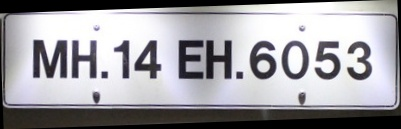character: (31, 37, 67, 80), (70, 36, 98, 80), (205, 38, 233, 80), (133, 39, 162, 79), (177, 37, 204, 79), (314, 39, 341, 81), (281, 40, 310, 79), (249, 40, 277, 80), (346, 40, 372, 81), (113, 38, 131, 79)
